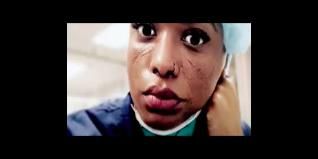mask_weared_incorrect: (129, 24, 211, 134)
